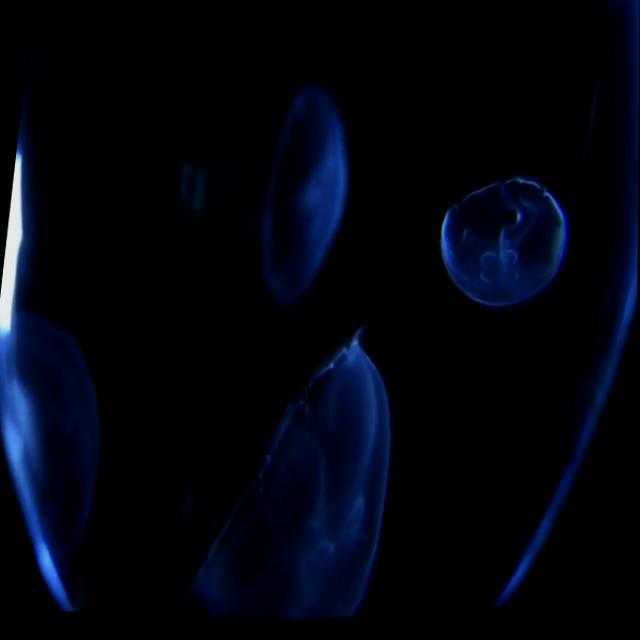Moon-jellyfish: (179, 332, 390, 624), (0, 307, 100, 612), (259, 87, 347, 308), (440, 182, 565, 311)
